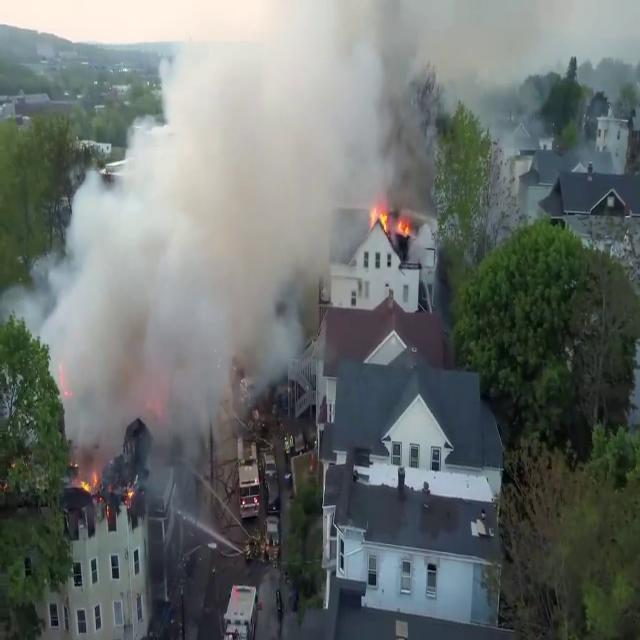Fire: (368, 200, 416, 243), (76, 464, 102, 500)
Smoke: (37, 1, 423, 460)
